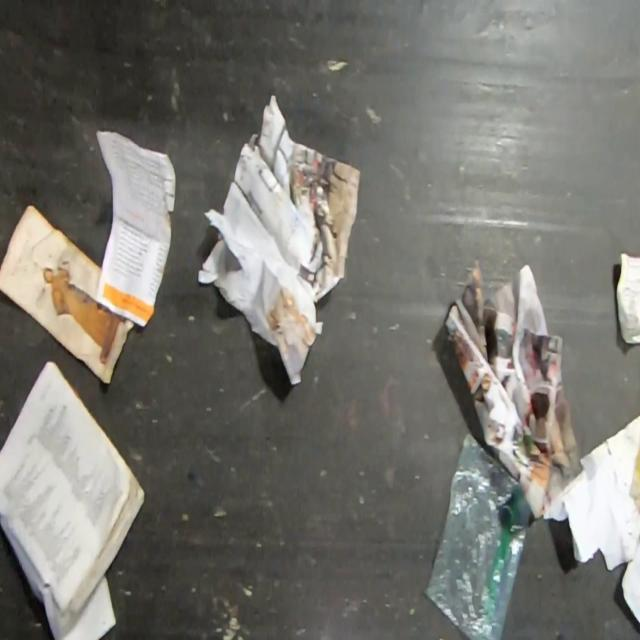soft_plastic: (421, 427, 533, 640)
